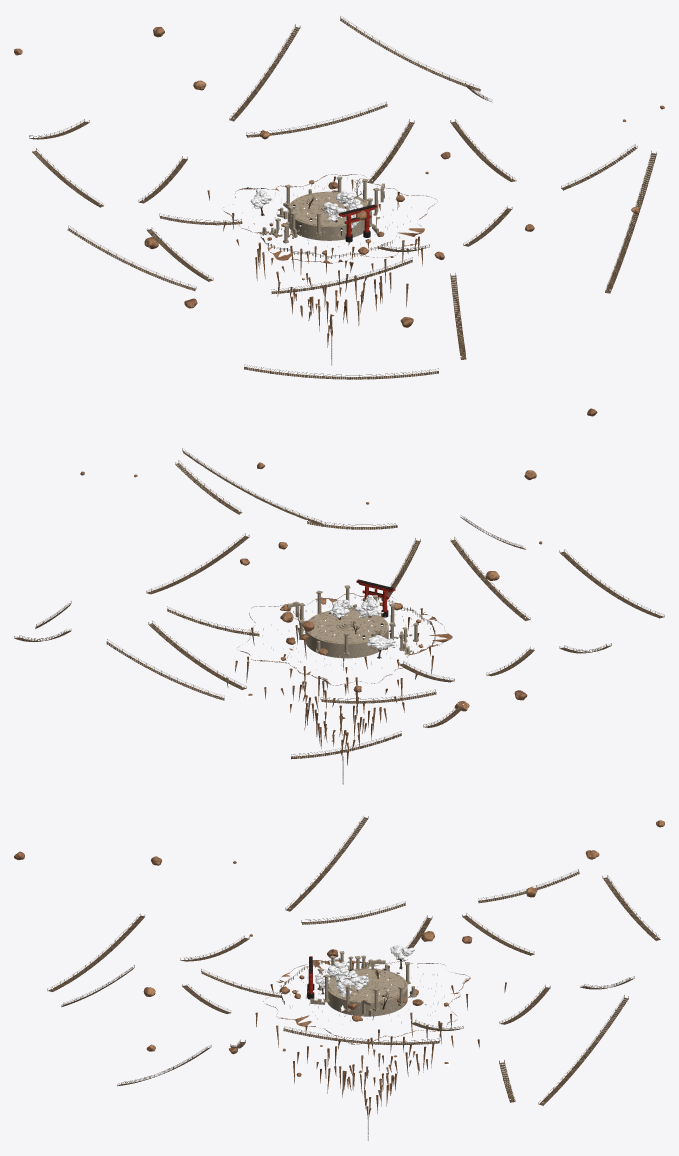
Rendered from map_islands_01.glb.
3 renders of one model, top to bottom at view 1: azimuth 30°, elevation 25°; view 2: azimuth 150°, elevation 25°; view 3: azimuth 270°, elevation 25°, orthographic. The views are drawn at different scales.
Visible parts, largest first — view 1: Isl00_props__stone, Isl00_props__cliff, Debris__cliff, Bridge_14_15__planks, Bridge_12_13__planks, Bridge_2_8__planks, Isl00_top__cliff, Bridge_7_8__planks, Bridge_4_5__planks, Bridge_4_11__planks, Bridge_1_2__planks, Bridge_5_13__planks; view 2: Isl00_props__stone, Isl00_props__cliff, Debris__cliff, Bridge_4_5__planks, Bridge_12_13__planks, Bridge_14_15__planks, Isl00_top__cliff, Bridge_1_2__planks, Bridge_6_1__planks; view 3: Isl00_props__stone, Isl00_props__cliff, Debris__cliff, Bridge_7_8__planks, Bridge_4_11__planks, Bridge_6_1__planks, Bridge_12_13__planks, Isl00_top__cliff, Bridge_9_10__planks.
Boxes of the visible parts, <box> form: Isl00_props__stone: <box>259,176,384,243</box>; Isl00_props__cliff: <box>207,176,422,347</box>; Debris__cliff: <box>14,27,664,327</box>; Bridge_14_15__planks: <box>605,150,656,293</box>; Bridge_12_13__planks: <box>244,364,438,379</box>; Bridge_2_8__planks: <box>229,24,300,121</box>; Isl00_top__cliff: <box>223,174,436,263</box>; Bridge_7_8__planks: <box>340,16,480,91</box>; Bridge_4_5__planks: <box>271,257,412,293</box>; Bridge_4_11__planks: <box>67,225,196,290</box>; Bridge_1_2__planks: <box>246,101,387,137</box>; Bridge_5_13__planks: <box>450,273,466,359</box>; Isl00_props__stone: <box>287,585,418,658</box>; Isl00_props__cliff: <box>226,597,433,765</box>; Debris__cliff: <box>80,408,597,711</box>; Bridge_4_5__planks: <box>450,537,530,620</box>; Bridge_12_13__planks: <box>559,549,664,618</box>; Bridge_14_15__planks: <box>182,448,322,524</box>; Isl00_top__cliff: <box>237,593,452,685</box>; Bridge_1_2__planks: <box>148,620,246,689</box>; Bridge_6_1__planks: <box>146,533,249,594</box>; Isl00_props__stone: <box>310,951,416,1016</box>; Isl00_props__cliff: <box>255,960,506,1117</box>; Debris__cliff: <box>14,820,664,1076</box>; Bridge_7_8__planks: <box>538,995,628,1105</box>; Bridge_4_11__planks: <box>285,816,368,911</box>; Bridge_6_1__planks: <box>283,1026,440,1044</box>; Bridge_12_13__planks: <box>47,913,144,991</box>; Isl00_top__cliff: <box>263,959,470,1044</box>; Bridge_9_10__planks: <box>602,875,660,940</box>.
Bounding box in the file's own units: 520 × 237 × 532.
10 materials, 7 textured.
